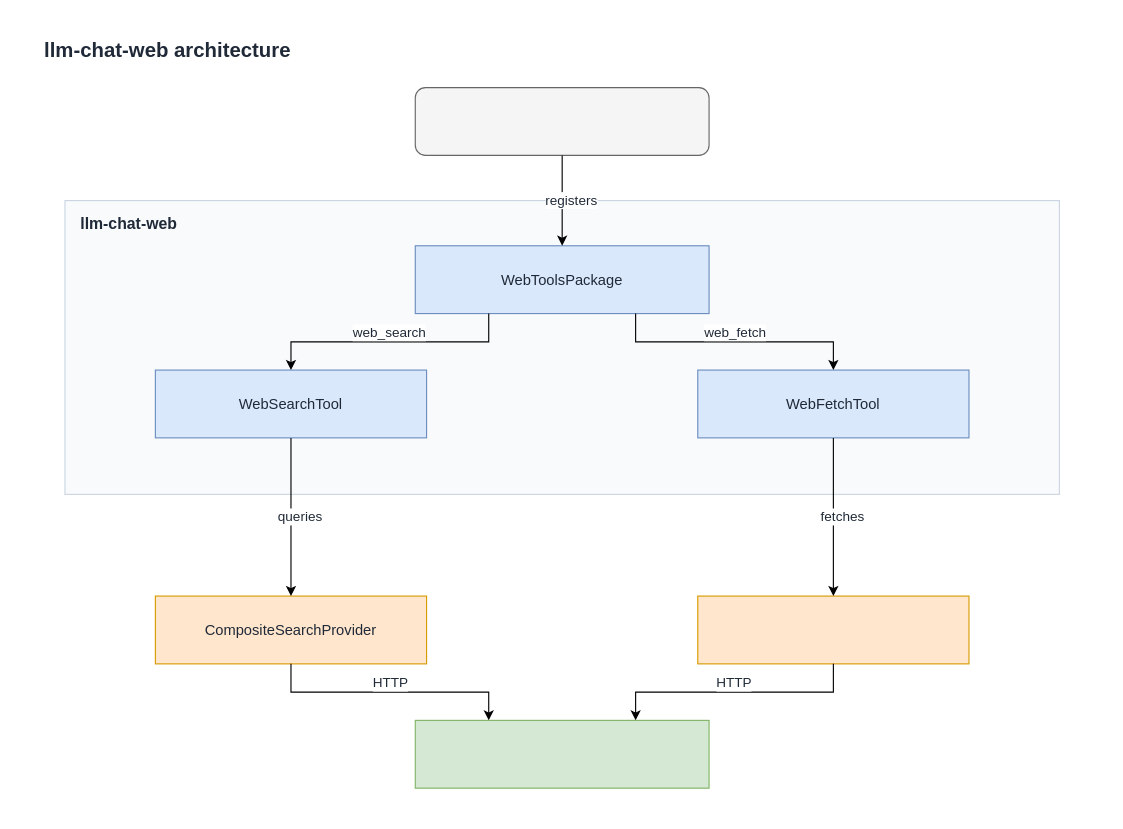
Image size: 1123x829. Some labels were removed from this diagram. The centre of each missing label's shape, as x and y in pixels:
ChatService (llm-chat): point (561, 120)
FetchRegistry: point (833, 629)
HTTP client fetchWithTimeout: point (561, 753)
